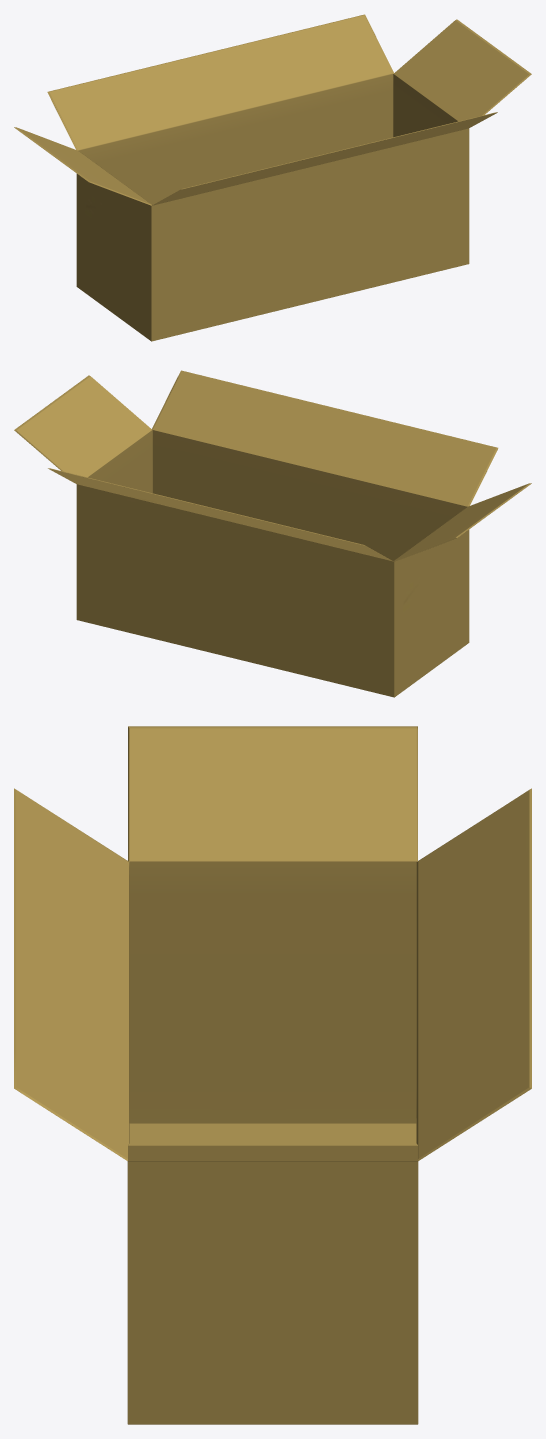
The model's file is cartongbl.glb.
3 views of the same model, one above another, from view 1: azimuth 30°, elevation 25°; view 2: azimuth 150°, elevation 25°; view 3: azimuth 270°, elevation 25° (orthographic). The views are drawn at different scales.
Visible parts, largest first — view 1: Cardboard box; view 2: Cardboard box; view 3: Cardboard box.
Boxes of the visible parts, x1=… form: Cardboard box: x1=14, y1=14, x2=531, y2=341; Cardboard box: x1=14, y1=370, x2=531, y2=697; Cardboard box: x1=14, y1=726, x2=531, y2=1424.
Size of the model in its own units: 3.42 by 1.29 by 1.78.
Materials: 1 (1 with a texture image).
